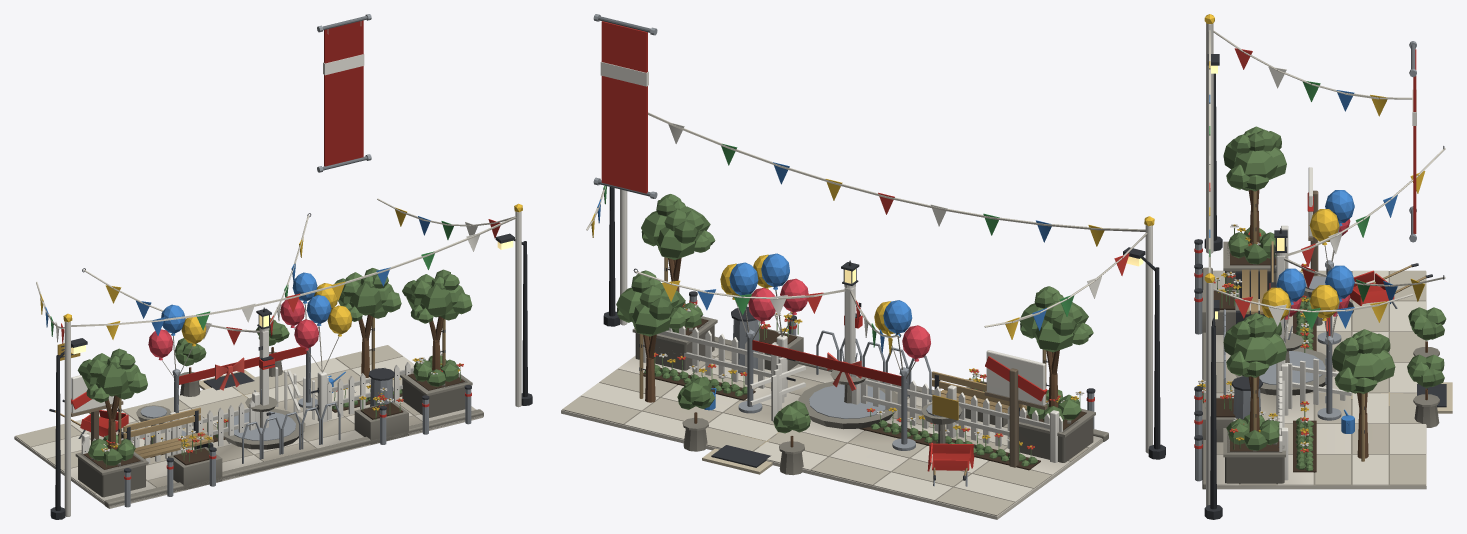
File: finished-dressing-near.glb
3 views of the same model, side by side, from view 1: azimuth 30°, elevation 25°; view 2: azimuth 150°, elevation 25°; view 3: azimuth 270°, elevation 25° (orthographic). The views are drawn at different scales.
Parts seen in each view (by area): view 1: TownDressing, VillageDressing; view 2: TownDressing, VillageDressing; view 3: TownDressing, VillageDressing.
Part boxes in pixels (x1,y1,x2,y2): TownDressing: (14, 14, 532, 519); VillageDressing: (49, 213, 442, 463); TownDressing: (561, 14, 1165, 519); VillageDressing: (616, 253, 1062, 486); TownDressing: (1194, 14, 1426, 519); VillageDressing: (1261, 146, 1452, 480).
Bounding box in the file's own units: 8.74 × 5.99 × 3.46.
